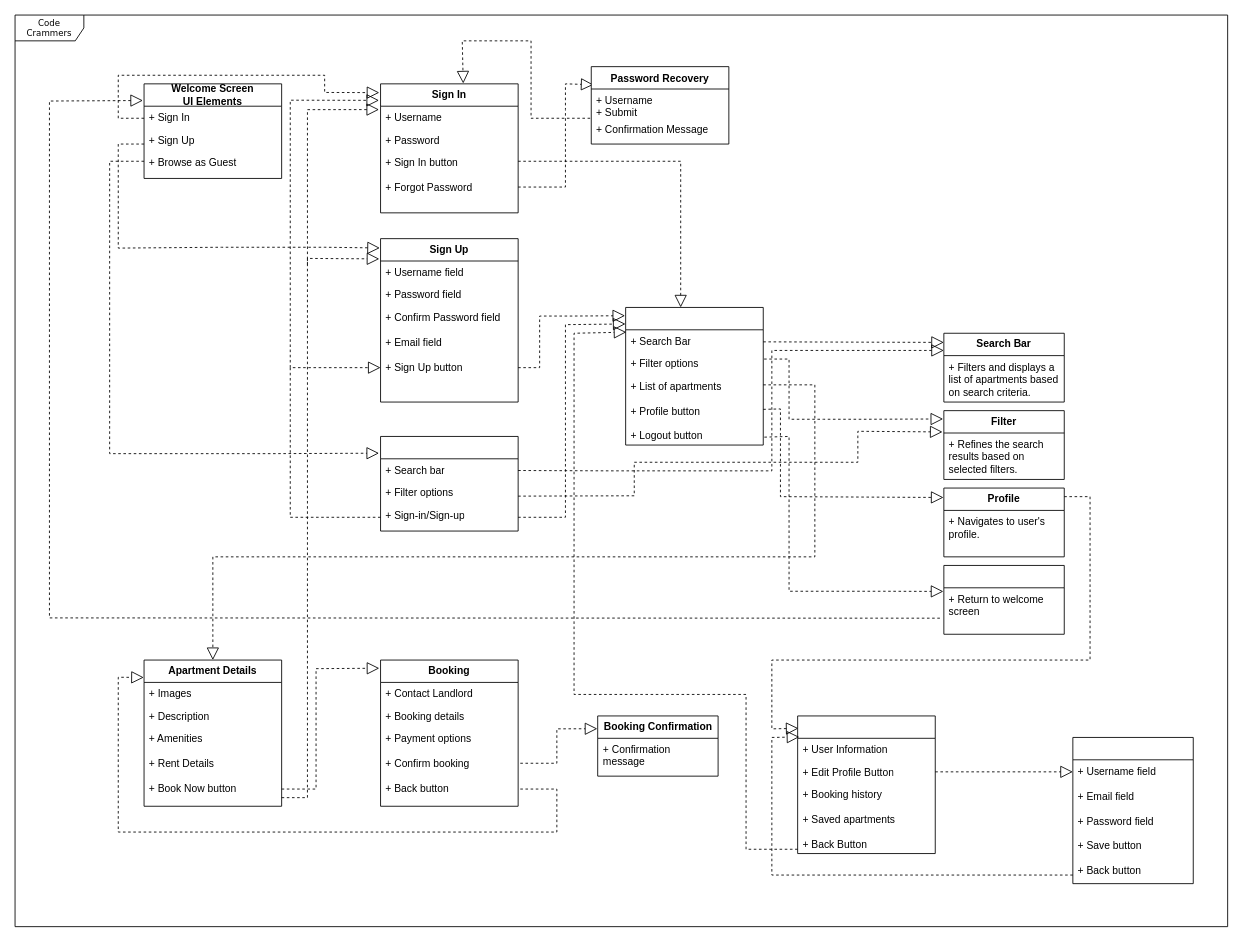
Image size: 1243x942. Some labels were removed from this diagram. The box of each missing label's shape, as (x1, y1, x2, y2) in pixels:
Browse as Guest: (380, 436, 518, 531)
Edit Profile Screen: (1072, 737, 1193, 884)
Log-out: (943, 565, 1064, 634)
User Dashboard: (625, 307, 763, 445)
User Profile Screen: (797, 715, 935, 854)
